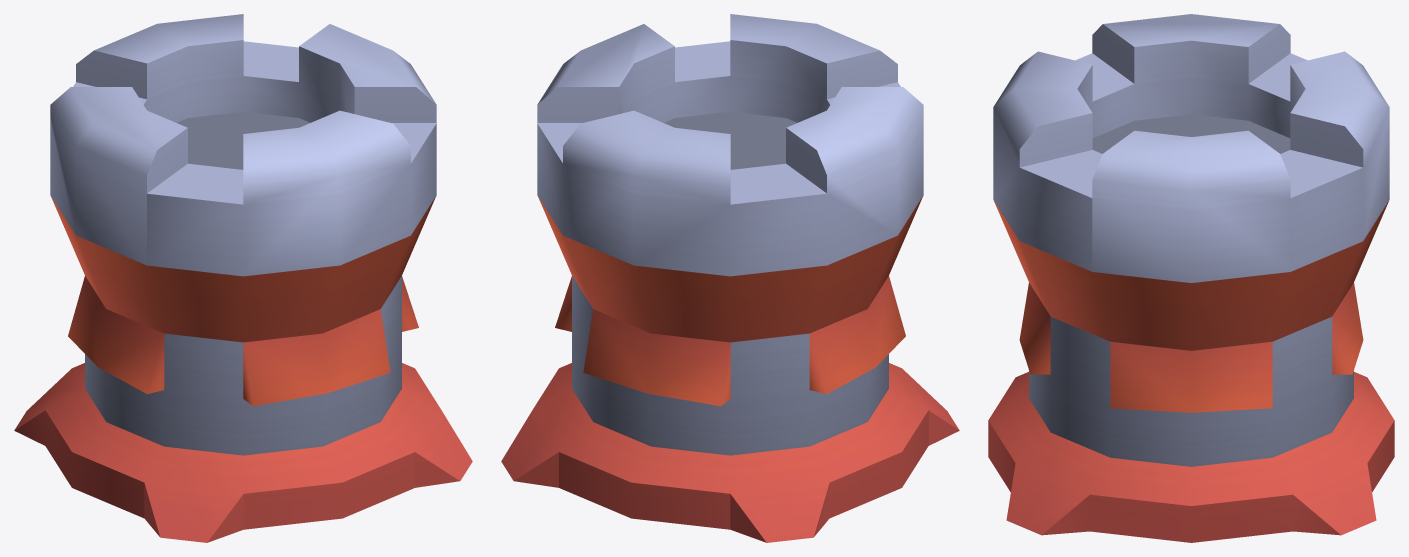
The model's file is tower-round-build-b.fbx.
3 views of the same model, side by side, from view 1: azimuth 30°, elevation 25°; view 2: azimuth 150°, elevation 25°; view 3: azimuth 270°, elevation 25° (orthographic). The views are drawn at different scales.
Visible parts, largest first — view 1: tower-round-build-b; view 2: tower-round-build-b; view 3: tower-round-build-b.
Part boxes in pixels (left/top/right/bottom): tower-round-build-b: left=14, top=14, right=472, bottom=542; tower-round-build-b: left=501, top=14, right=959, bottom=542; tower-round-build-b: left=988, top=14, right=1394, bottom=542.
Size of the model in its own units: 100 by 100 by 100.
